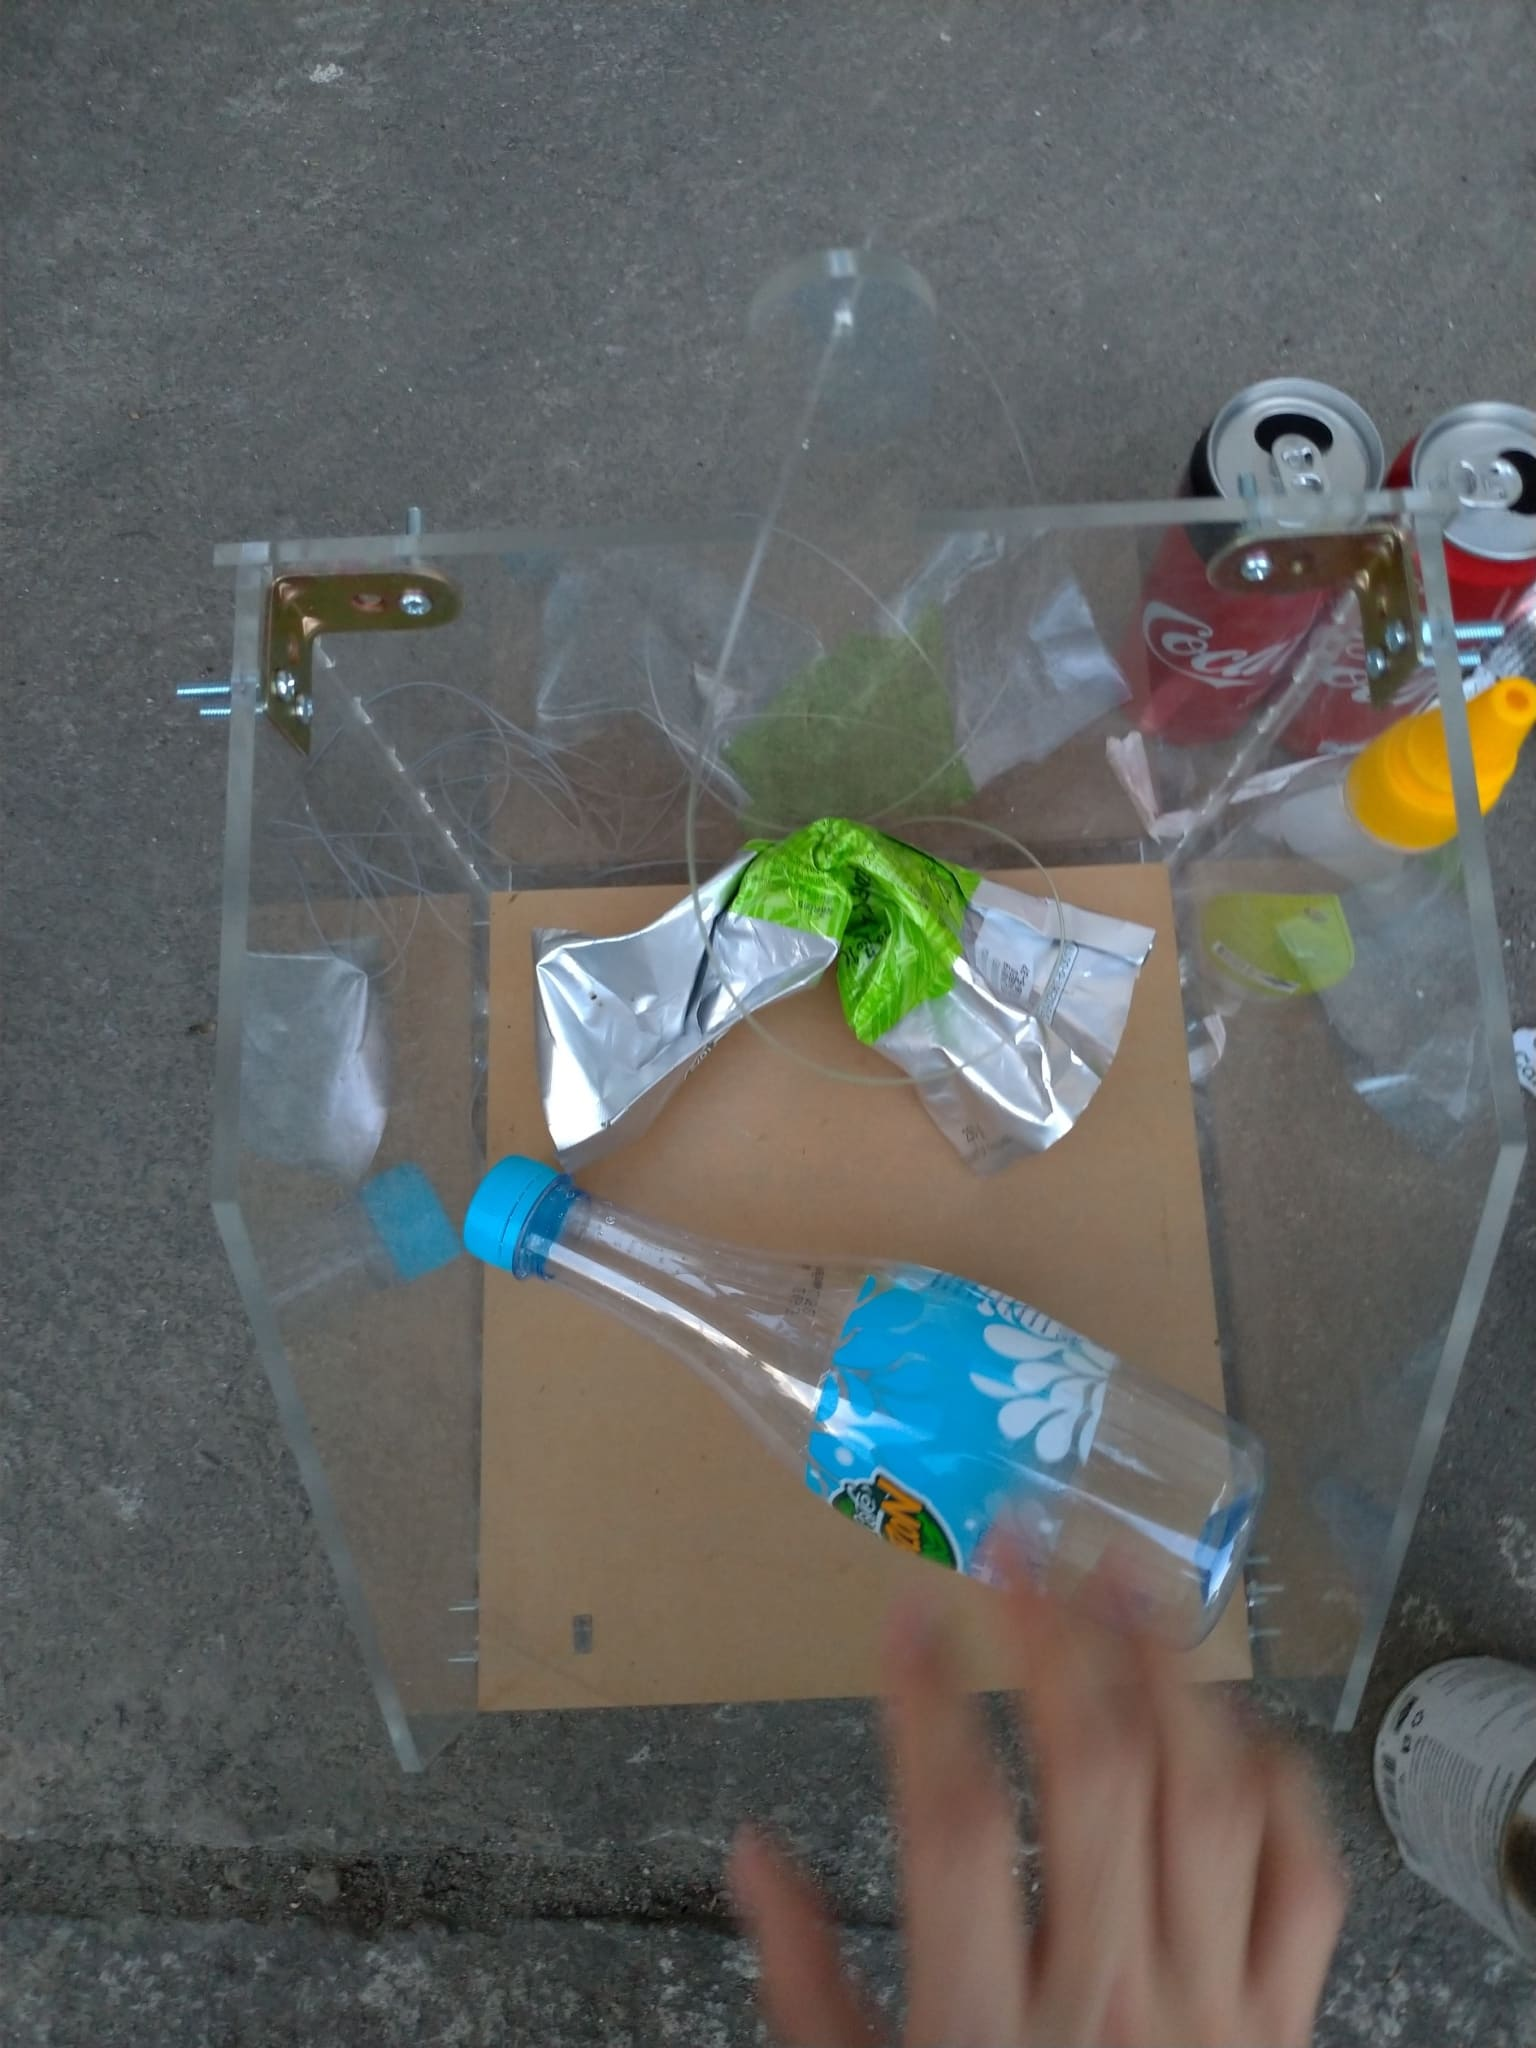AlCan: (1115, 381, 1370, 742), (1389, 390, 1536, 677)
Others: (531, 819, 1157, 1161)
PlasticBottle: (457, 1158, 1257, 1638), (1179, 668, 1521, 1019)
